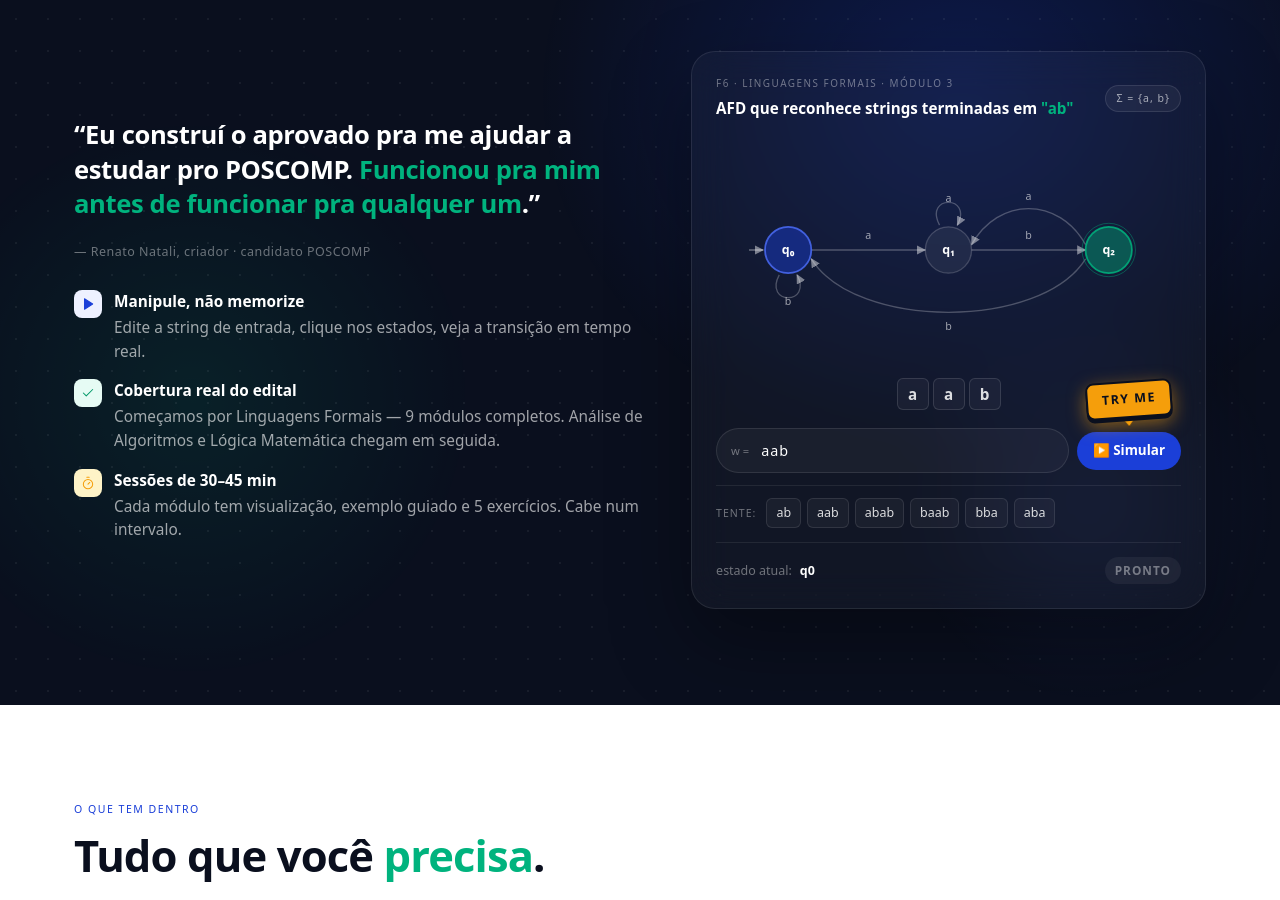
Test: LandingPage — comportamento › AutomatonSim aceita interação do usuário › popula o input ao clicar no chip de exemplo "aab"
(page scrolled)
Clear the field with placeholder "aab": [910, 451] box left=757, top=433, right=1064, bottom=468
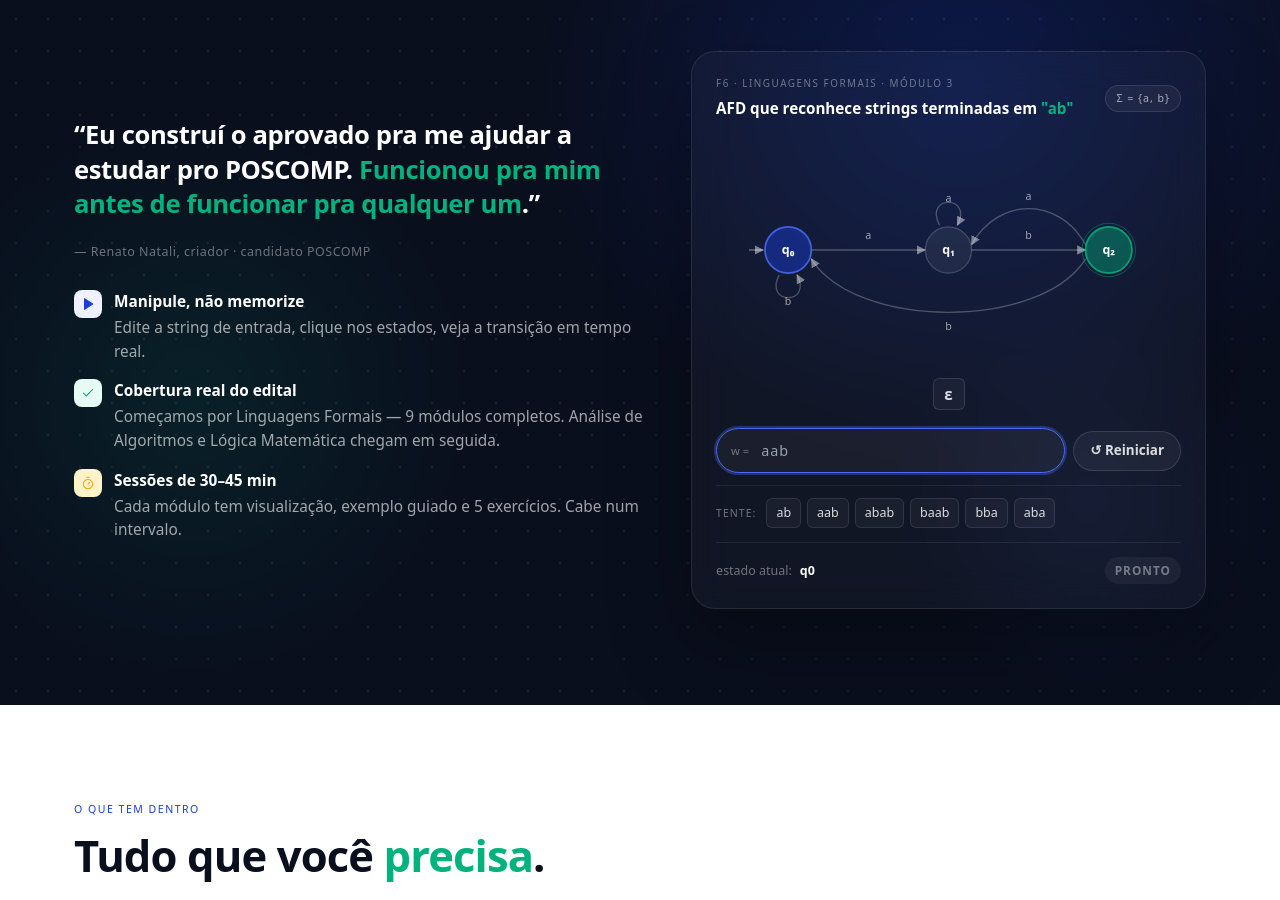
Note: Os chips ficam dentro do bloco .aut-quick — pega via role + nome exato.
Click the button "aab": [828, 513] box left=807, top=498, right=849, bottom=528
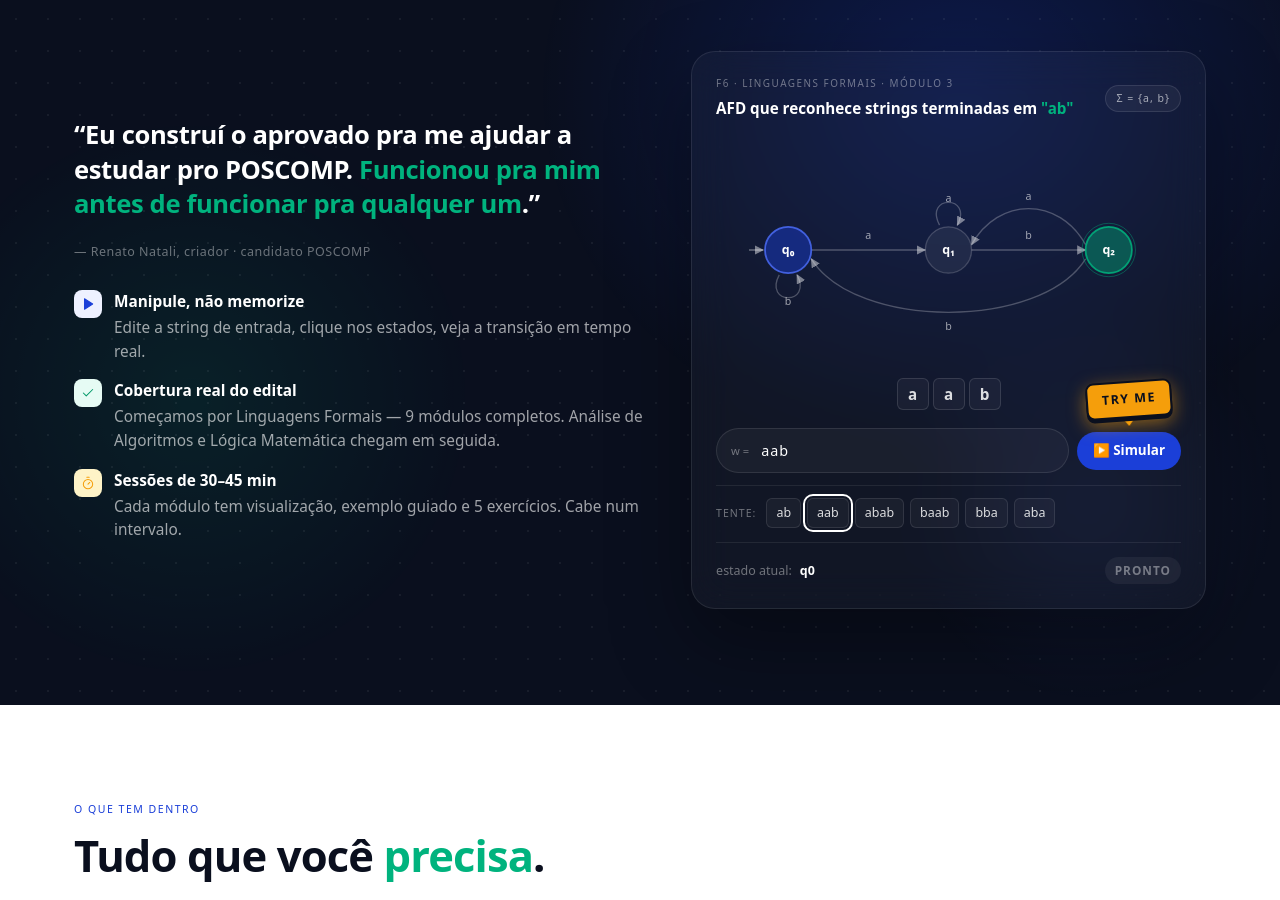
Expected: the field with placeholder "aab" holds "aab", left=757, top=433, right=1064, bottom=468
